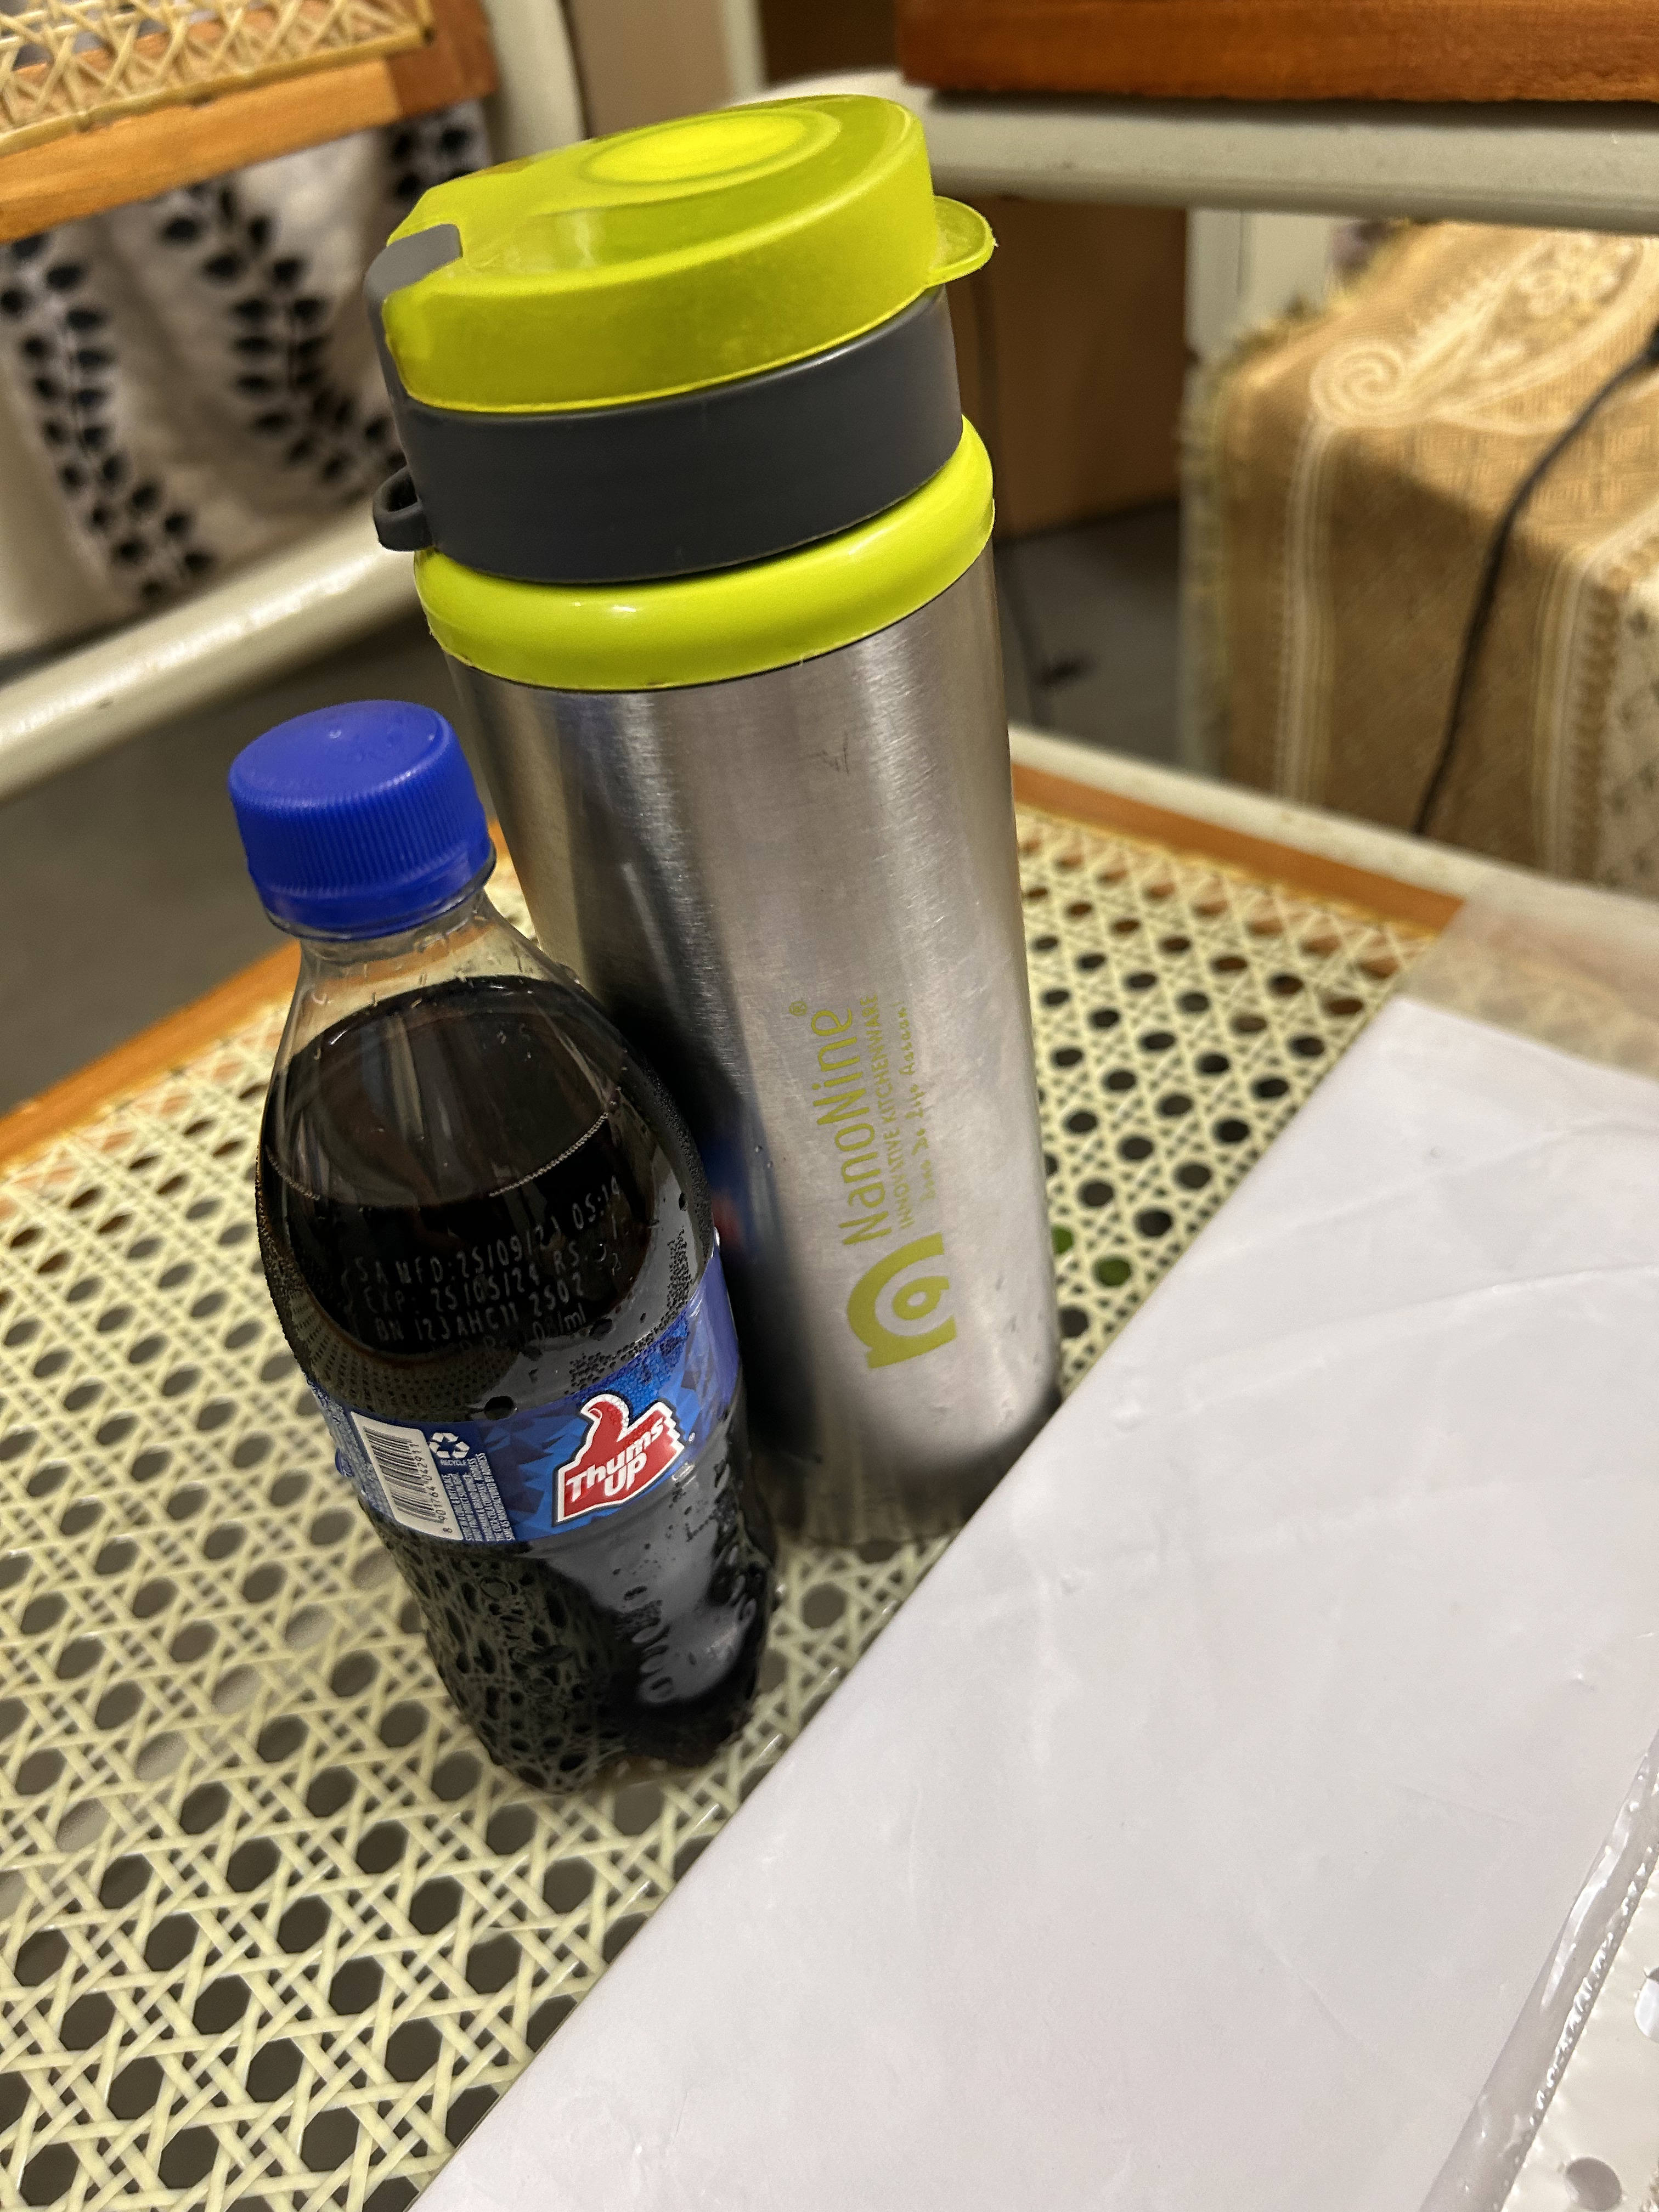sealstable: (188, 686, 537, 1177)
